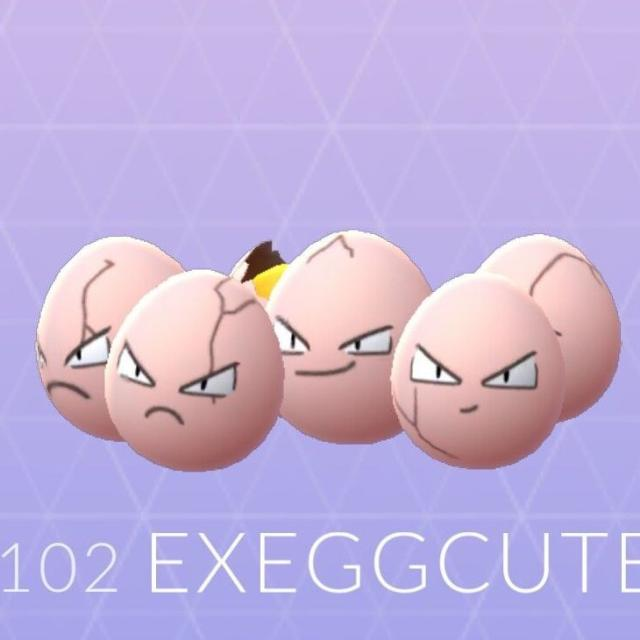Exeggcute: (24, 230, 611, 478)
